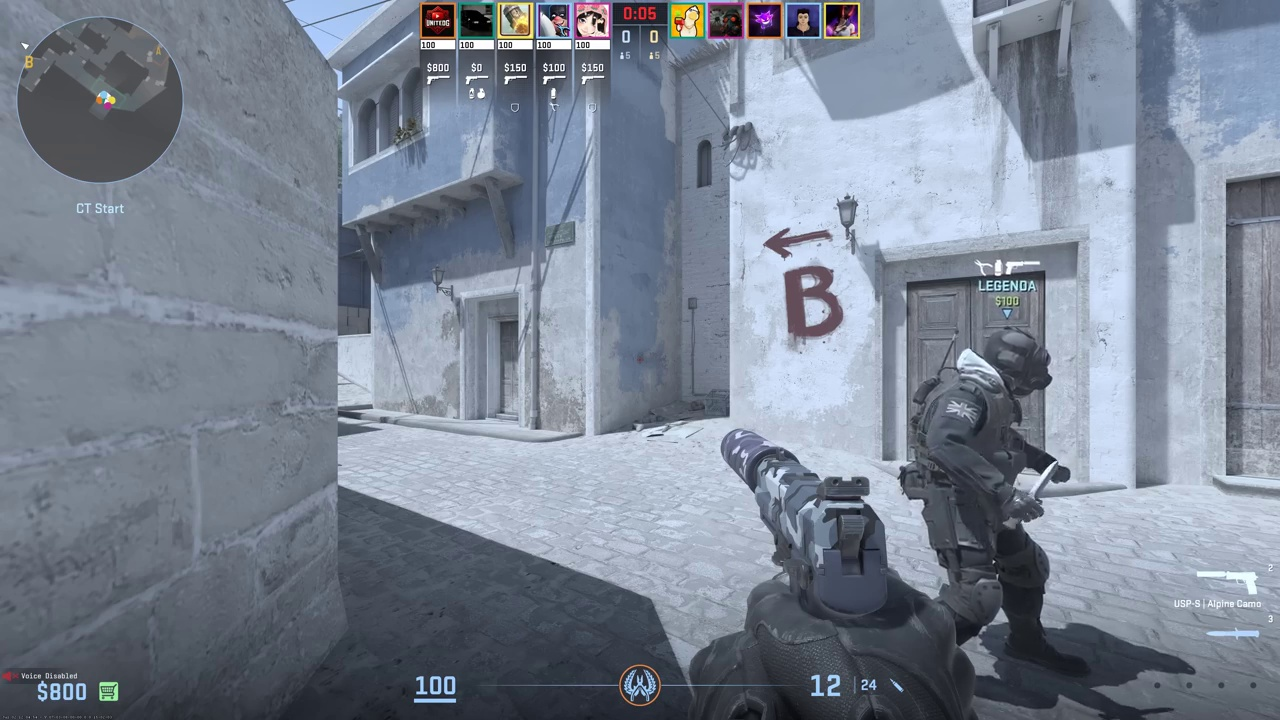CT: (915, 326, 1077, 669)
